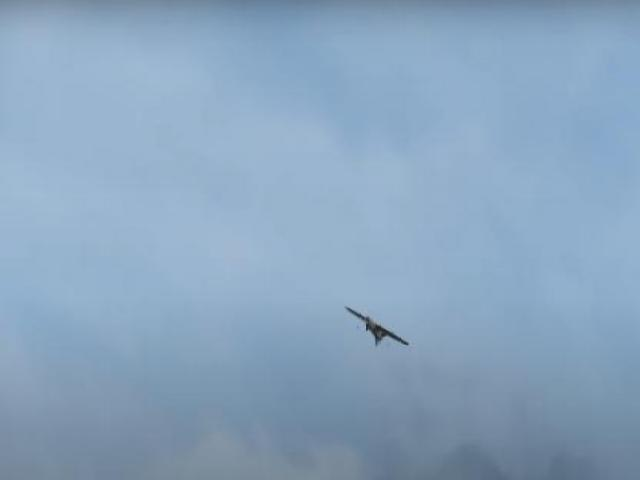uav: (347, 300, 408, 347)
